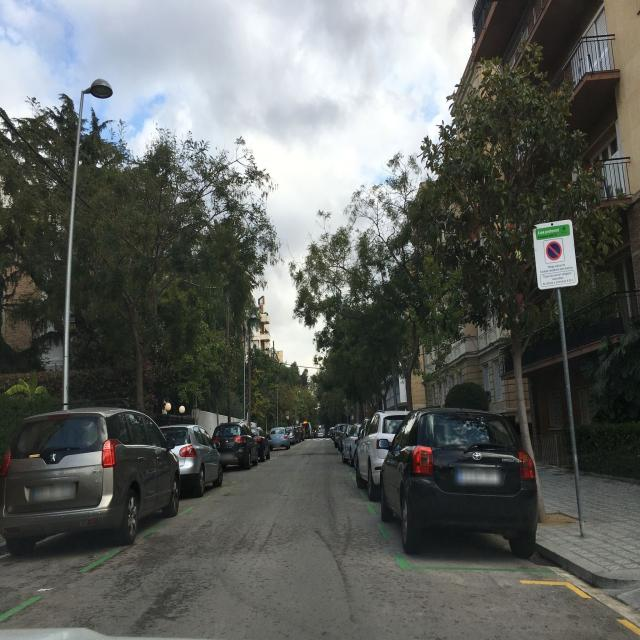forb_stopping: (545, 241, 562, 262)
